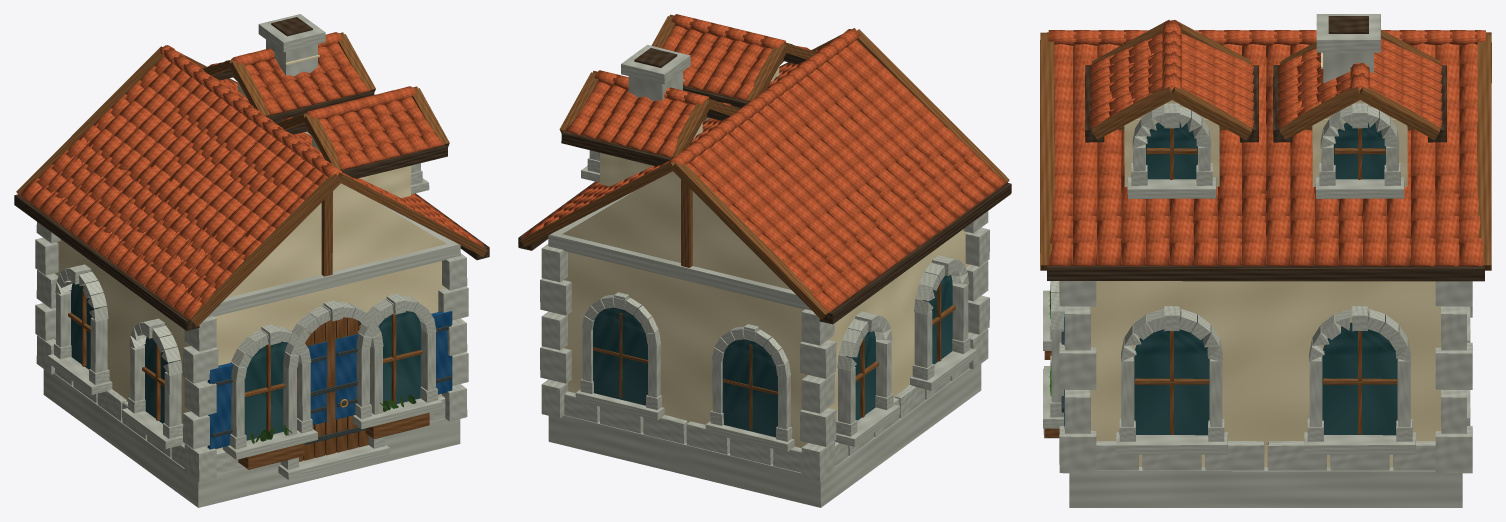
Rendered from orchard_cottage.glb.
The picture shows the model from 3 angles, left to right: view 1: azimuth 30°, elevation 25°; view 2: azimuth 150°, elevation 25°; view 3: azimuth 270°, elevation 25°; orthographic projection. The views are drawn at different scales.
Visible parts, largest first — view 1: orchard_cottage_Roof.001, orchard_cottage_Structure.001, orchard_cottage_Joinery.001, orchard_cottage_Detail.001, orchard_cottage_Glazing.001, orchard_cottage_Metalwork.001; view 2: orchard_cottage_Structure.001, orchard_cottage_Roof.001, orchard_cottage_Detail.001, orchard_cottage_Joinery.001, orchard_cottage_Glazing.001; view 3: orchard_cottage_Roof.001, orchard_cottage_Structure.001, orchard_cottage_Joinery.001, orchard_cottage_Detail.001, orchard_cottage_Glazing.001.
Boxes of the visible parts, x1,y1,x2,y2 form: orchard_cottage_Roof.001: [19, 32, 484, 319]; orchard_cottage_Structure.001: [35, 14, 468, 507]; orchard_cottage_Joinery.001: [14, 32, 489, 469]; orchard_cottage_Detail.001: [47, 163, 442, 480]; orchard_cottage_Glazing.001: [71, 283, 421, 440]; orchard_cottage_Metalwork.001: [211, 325, 451, 444]; orchard_cottage_Structure.001: [540, 45, 989, 507]; orchard_cottage_Roof.001: [523, 14, 1006, 312]; orchard_cottage_Detail.001: [575, 150, 976, 451]; orchard_cottage_Joinery.001: [518, 14, 1011, 429]; orchard_cottage_Glazing.001: [593, 275, 952, 437]; orchard_cottage_Roof.001: [1048, 20, 1485, 266]; orchard_cottage_Structure.001: [1059, 14, 1472, 507]; orchard_cottage_Joinery.001: [1040, 20, 1491, 437]; orchard_cottage_Detail.001: [1043, 103, 1470, 454]; orchard_cottage_Glazing.001: [1134, 121, 1397, 435].
Size of the model in its own units: 5.33 by 5.91 by 5.4.
Materials: 4 (4 with a texture image).
